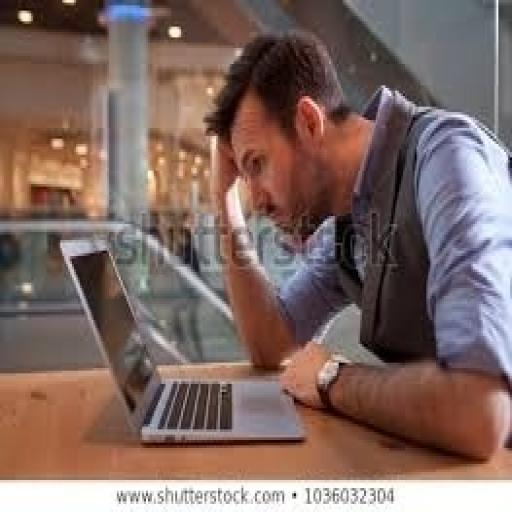using_laptop: (56, 232, 308, 445)
